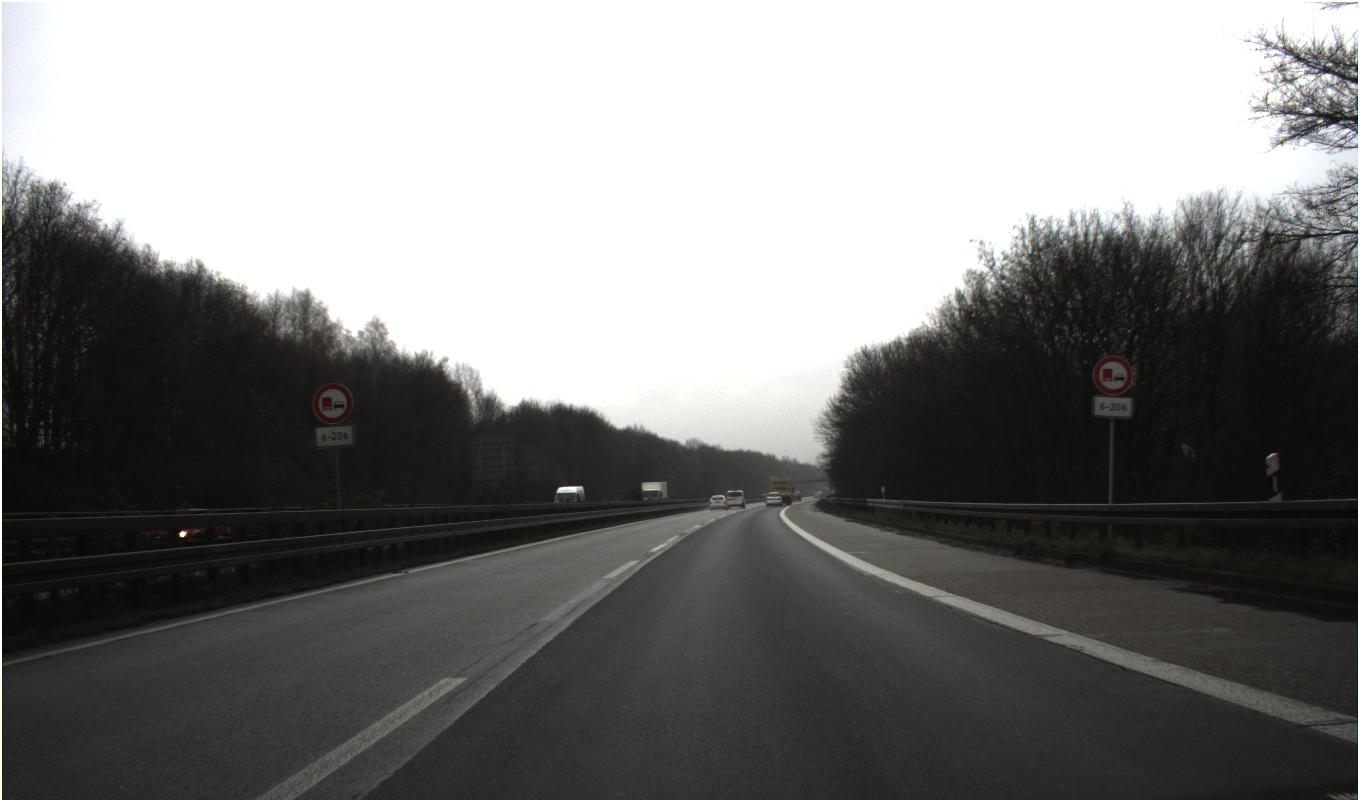prohibitory: (311, 381, 354, 425), (1091, 354, 1134, 396)
